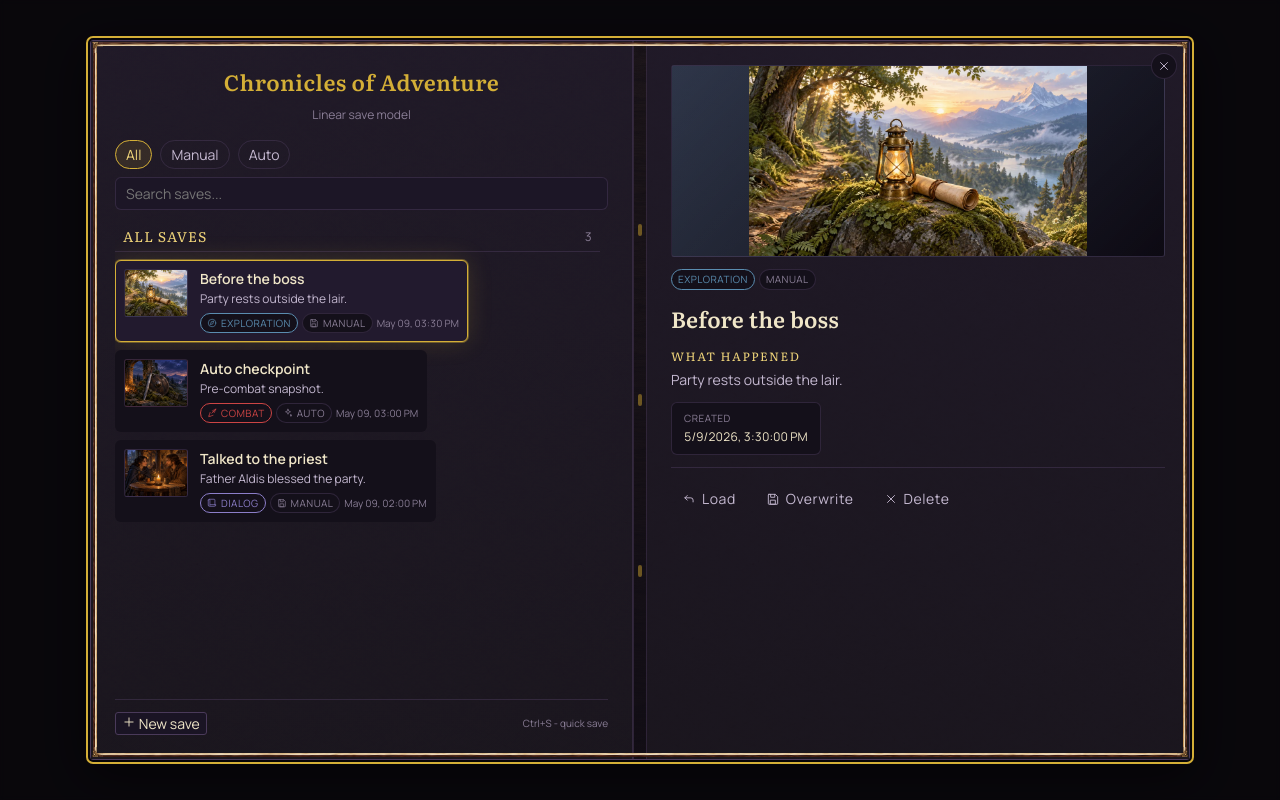
SavesScreen › clicking Delete opens DmConfirmModal (no window.confirm)
Expected: the text "Before the boss" is shown, [200,269,305,288]
Click the button "Delete" at point(917, 498), box [873,484,960,513]
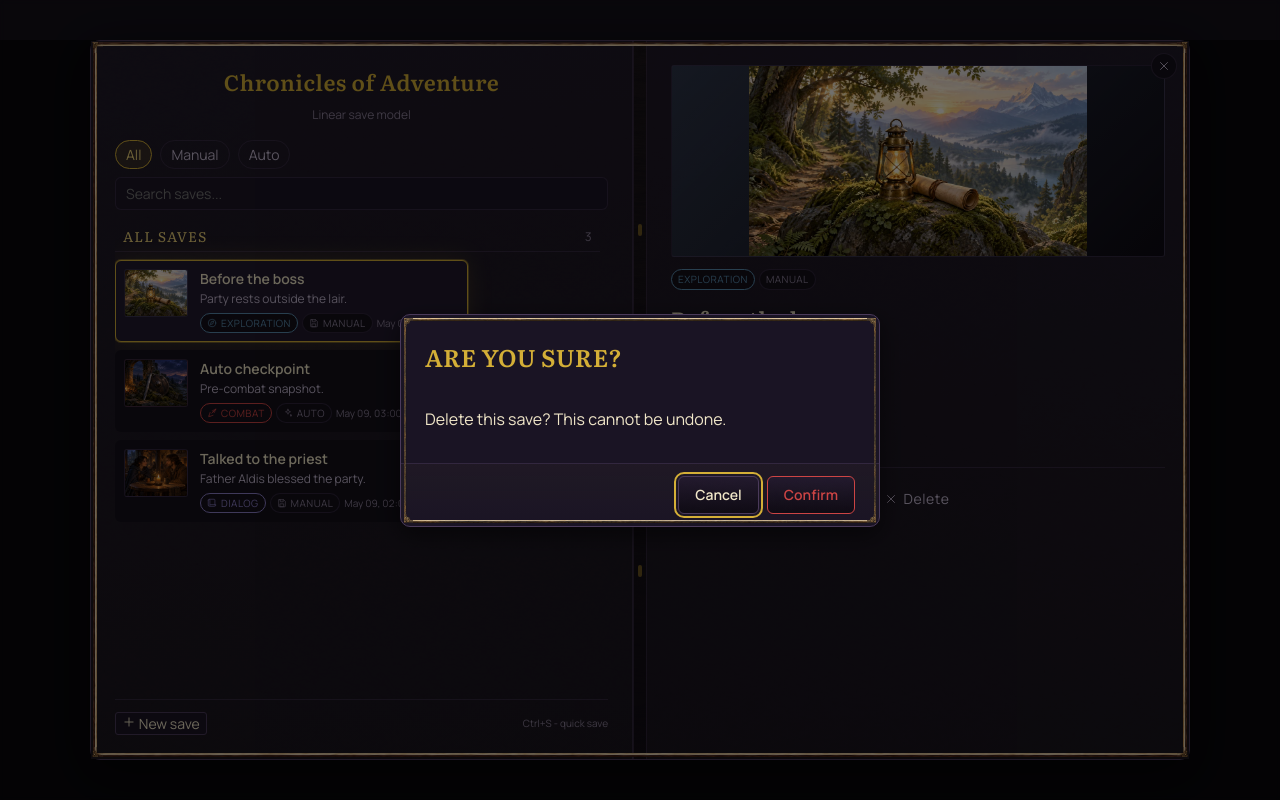
Expected: the button "Confirm" is shown, [767,476,855,514]
